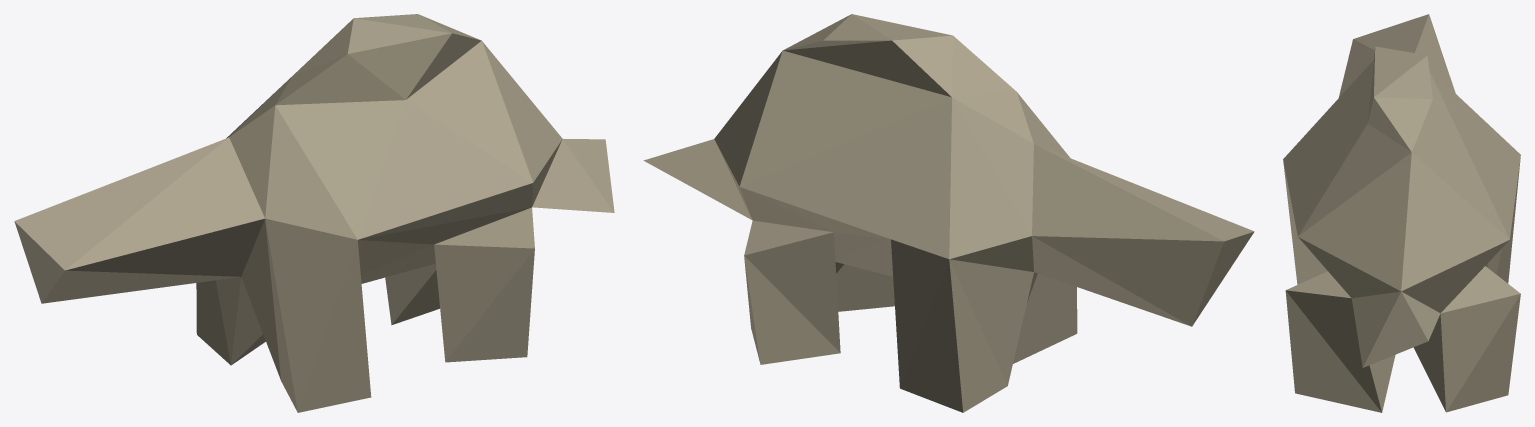
The picture shows the model from 3 angles, left to right: view 1: azimuth 30°, elevation 25°; view 2: azimuth 150°, elevation 25°; view 3: azimuth 270°, elevation 25°; orthographic projection. The views are drawn at different scales.
Parts seen in each view (by area): view 1: part0; view 2: part0; view 3: part0.
Boxes of the visible parts, box(x1,y1,x2,y2) form: part0: box(14, 14, 614, 412); part0: box(643, 14, 1254, 412); part0: box(1283, 14, 1520, 412).
Bounding box in the file's own units: 5.47 × 2.88 × 2.04.
